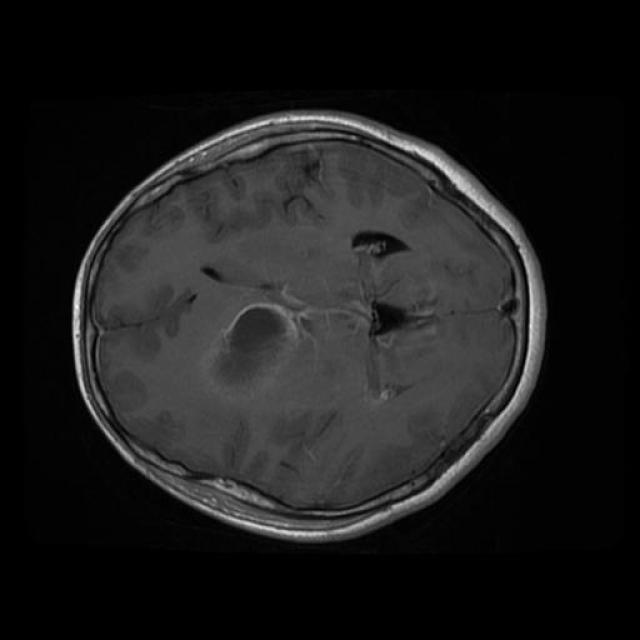Glioma: (215, 304, 296, 384)
